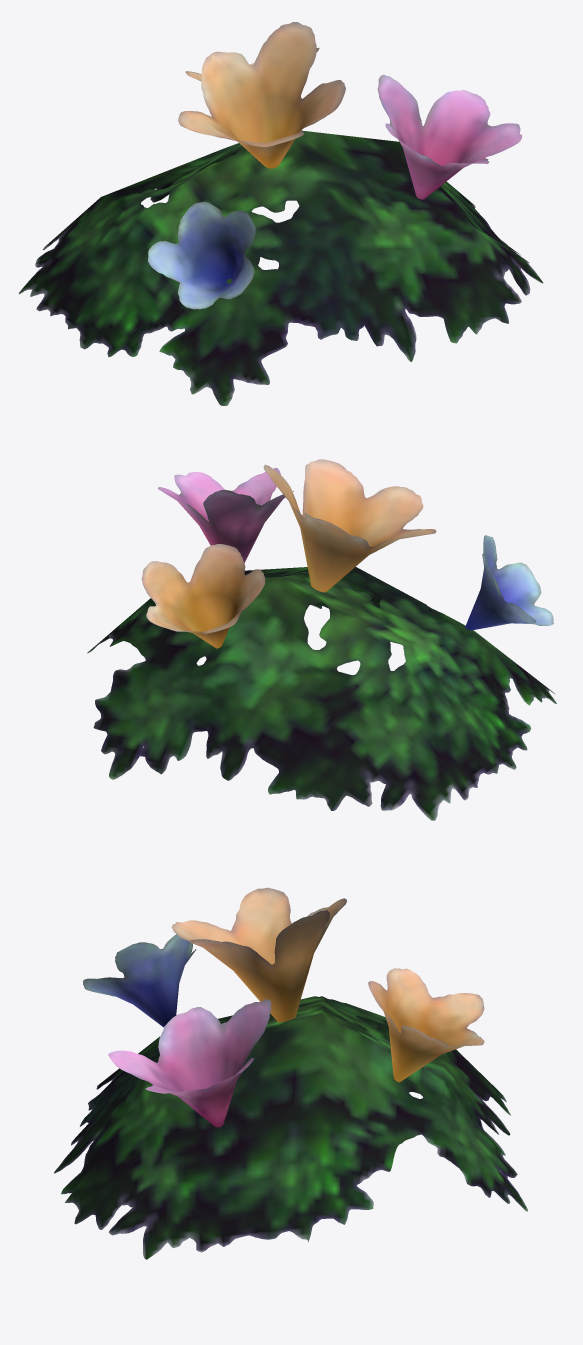
File: bush_6.fbx
3 renders of one model, top to bottom at view 1: azimuth 30°, elevation 25°; view 2: azimuth 150°, elevation 25°; view 3: azimuth 270°, elevation 25°, orthographic. The views are drawn at different scales.
Visible parts, largest first — view 1: bush_6; view 2: bush_6; view 3: bush_6.
Part boxes in pixels (bbox=[...]): bush_6: bbox=[18, 22, 543, 405]; bush_6: bbox=[87, 459, 556, 820]; bush_6: bbox=[54, 887, 527, 1259].
Size of the model in its own units: 1.25 by 0.7201 by 1.15.
